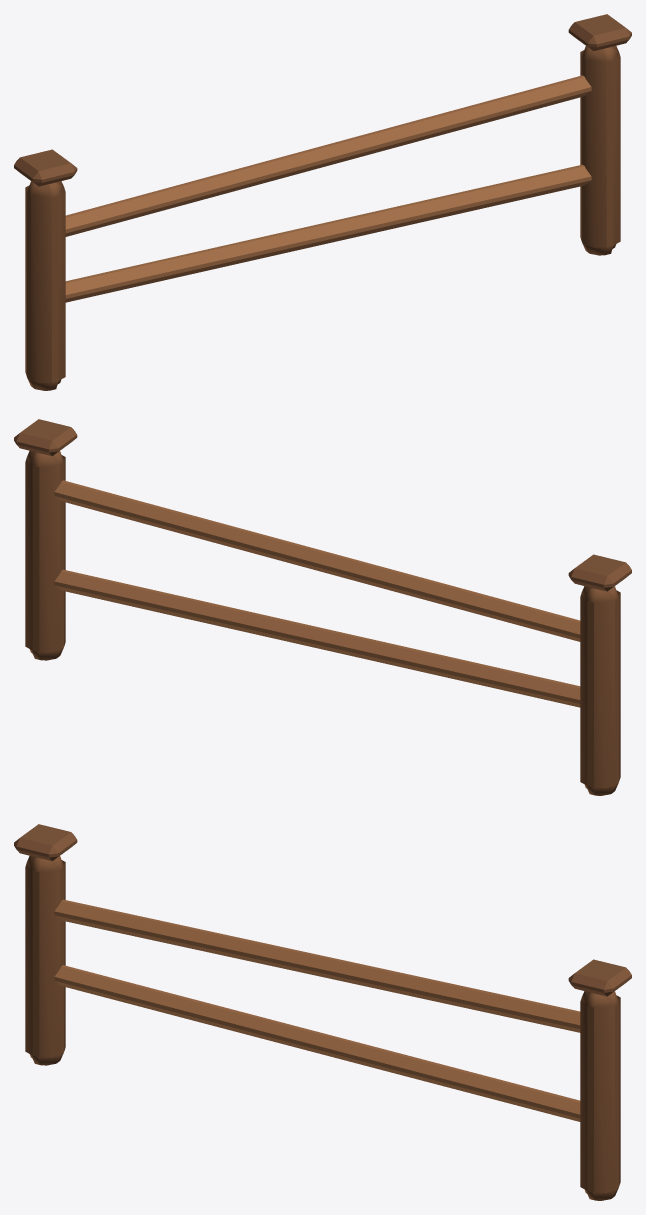
The model's file is fence.glb.
The picture shows the model from 3 angles, top to bottom: view 1: azimuth 30°, elevation 25°; view 2: azimuth 150°, elevation 25°; view 3: azimuth 330°, elevation 25°; orthographic projection.
Visible parts, largest first — view 1: body; view 2: body; view 3: body.
Part boxes in pixels (bbox=[...]): body: bbox=[14, 14, 631, 390]; body: bbox=[14, 419, 631, 795]; body: bbox=[14, 824, 631, 1200].
Bounding box in the file's own units: 3.24 × 1.18 × 0.24.
